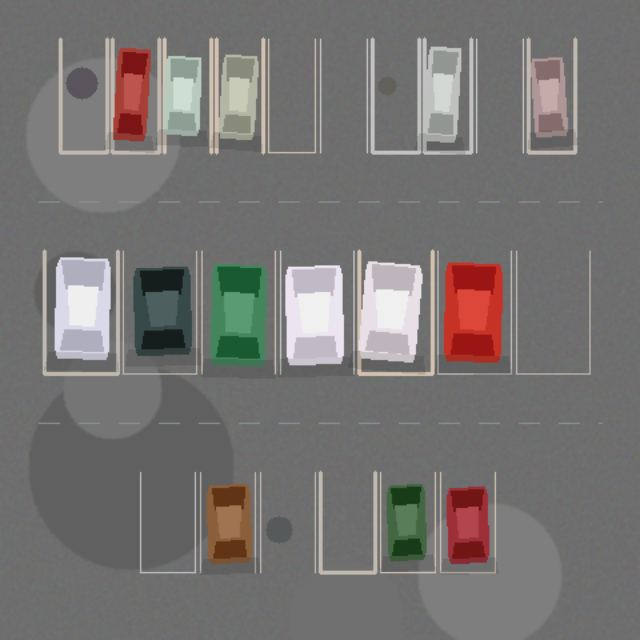space-empty: (516, 251, 589, 373), (140, 472, 195, 572), (260, 472, 315, 572), (320, 472, 375, 572), (60, 39, 107, 152), (268, 39, 315, 152), (320, 39, 367, 152), (372, 39, 419, 152), (476, 39, 523, 152)
space-occupied: (201, 251, 275, 373), (437, 251, 511, 373), (44, 251, 117, 373), (123, 251, 196, 373), (280, 251, 353, 373), (359, 251, 432, 373), (200, 472, 255, 572), (380, 472, 435, 572), (440, 472, 495, 572), (112, 39, 159, 152), (164, 39, 211, 152), (216, 39, 263, 152), (424, 39, 471, 152), (528, 39, 575, 152)
